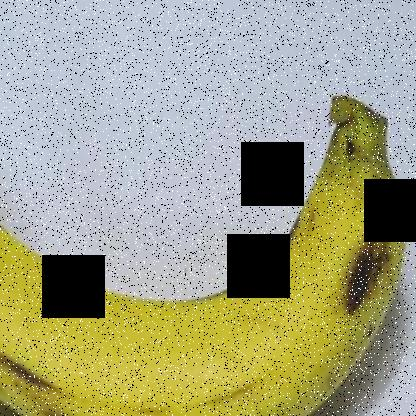freshripe: (0, 79, 416, 415)
